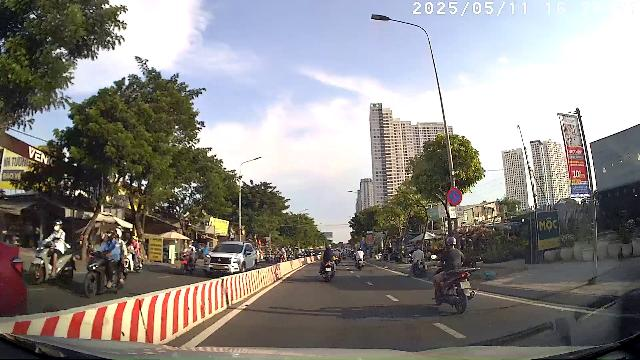130-cam-dung-va-do-xe: (447, 188, 463, 206)
